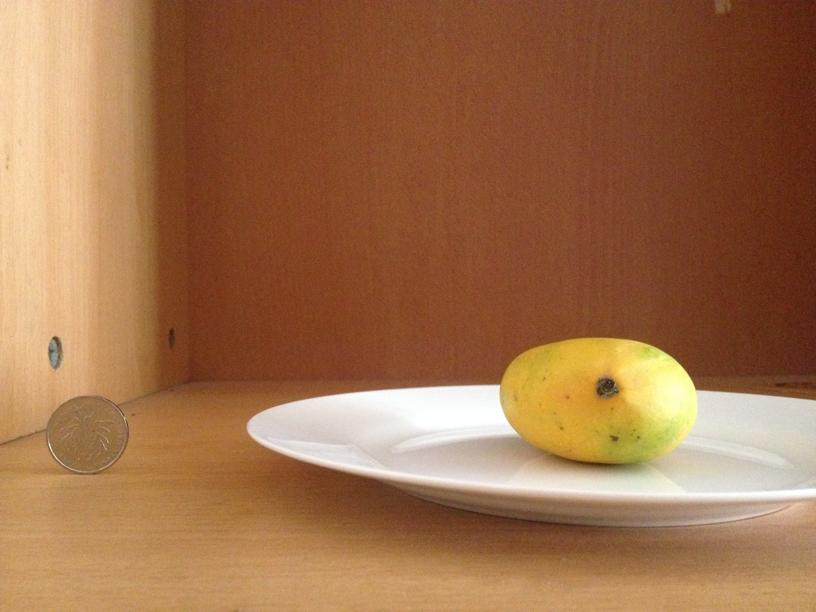coin: (43, 397, 128, 473)
mango: (498, 338, 697, 465)
